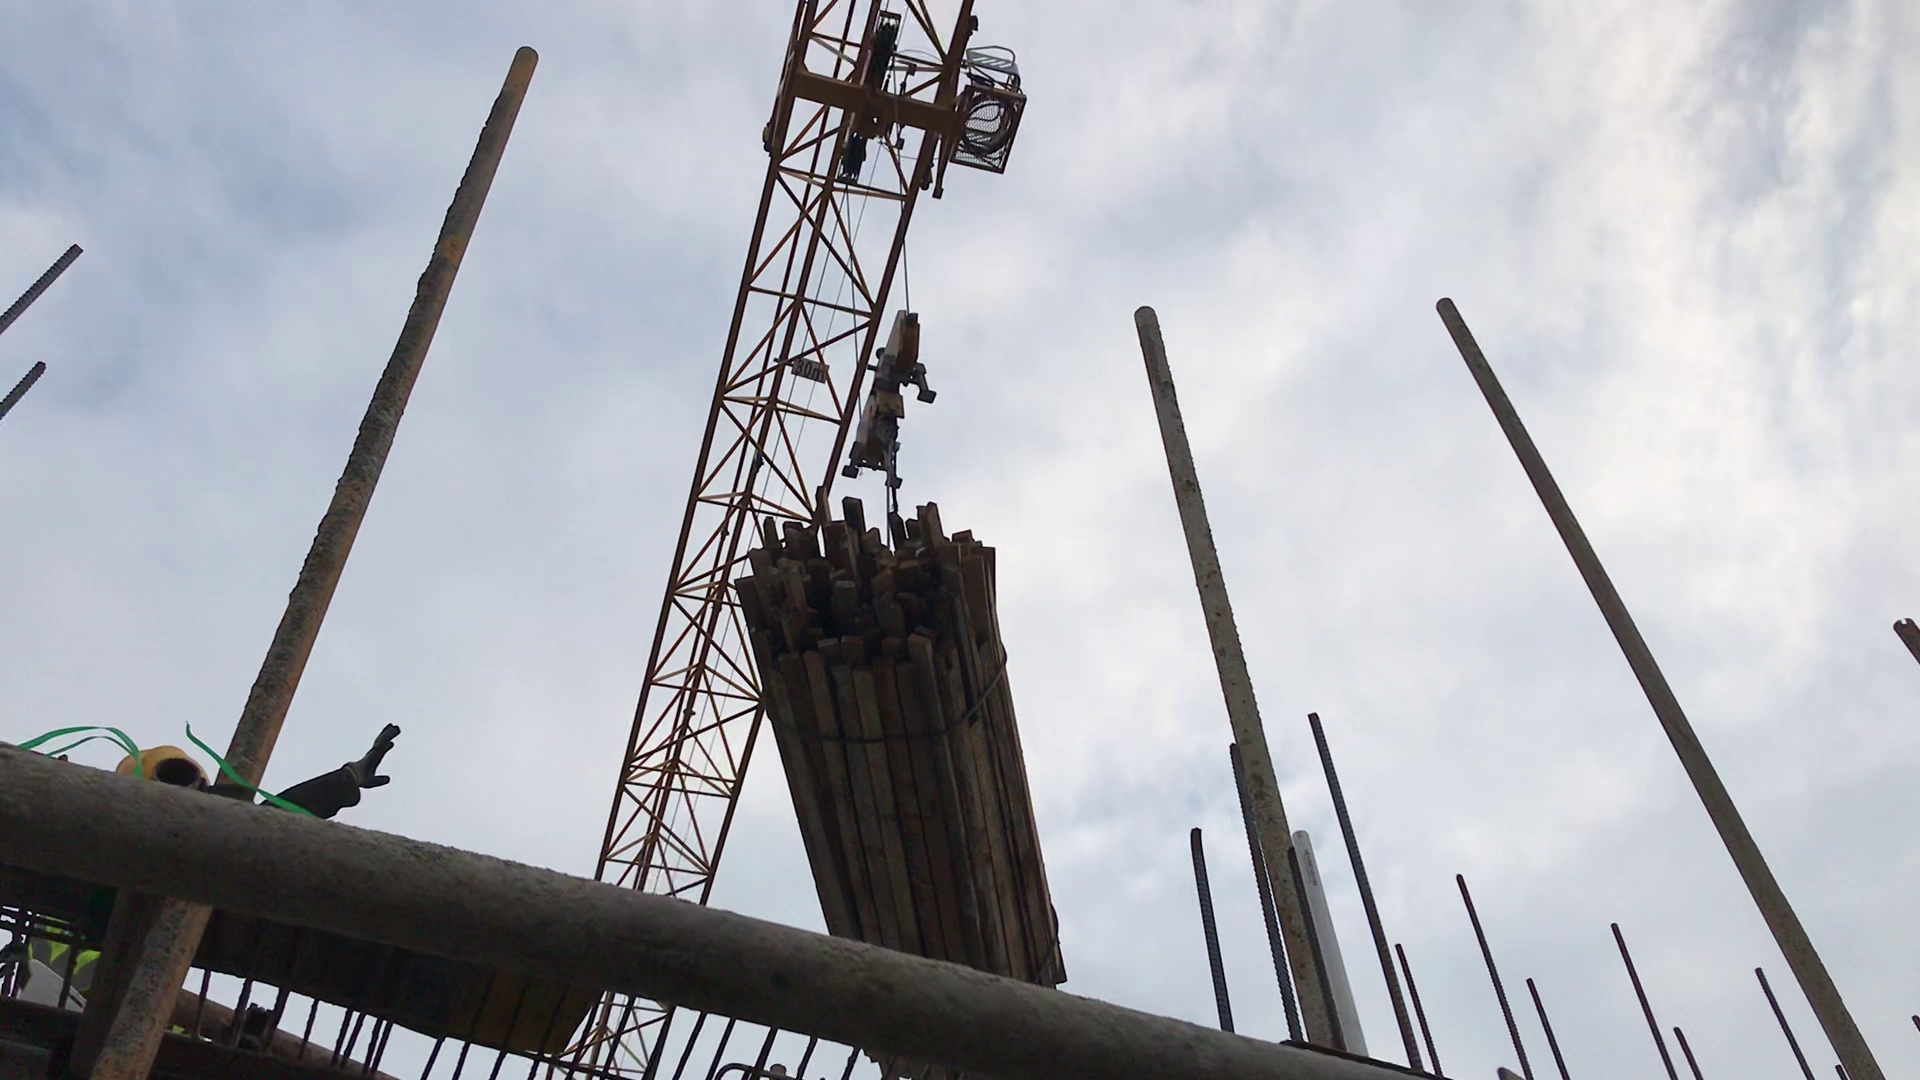helmet: (104, 737, 203, 785)
hook: (826, 292, 938, 485)
person: (23, 704, 429, 1035)
wood: (708, 490, 1093, 986)
